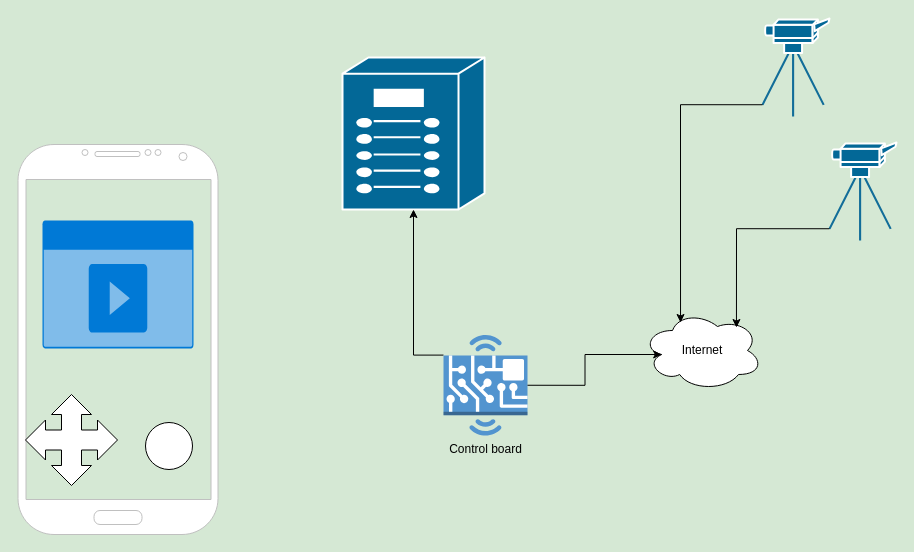
Image size: 914x552. Some labels were removed from this diagram. The shapes that lost their labels are listed below. From the top down, each one's centre as x and y in pixels, then its label:
At point 413,133: "Machine".
At point 117,284: "Video".
